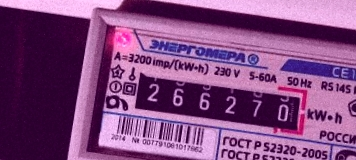0: (274, 100, 289, 123)
2: (144, 80, 161, 103), (222, 92, 237, 115)
6: (169, 86, 185, 107), (195, 89, 211, 110)
7: (246, 96, 262, 119)
screen: (122, 59, 316, 143)
